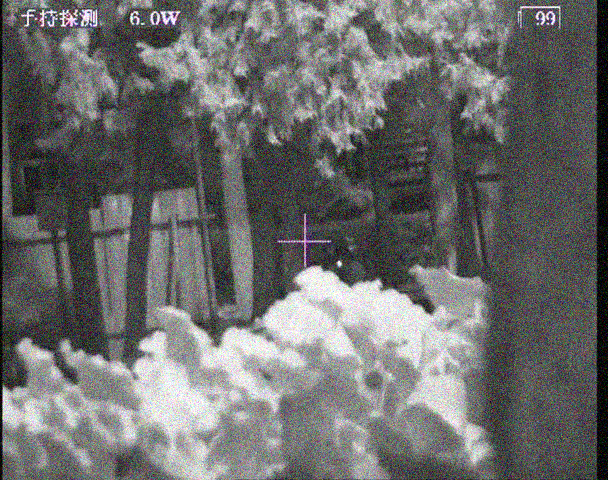my: (335, 260, 344, 268)
